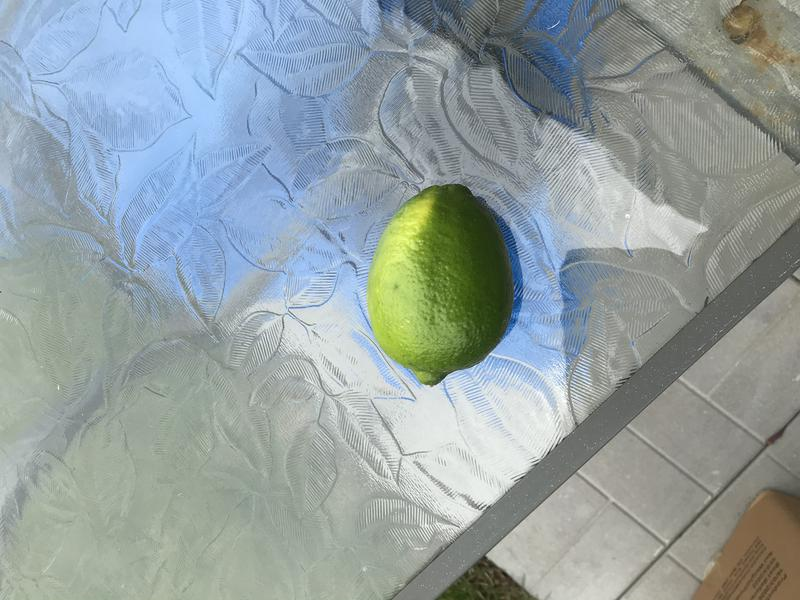lime: (354, 169, 530, 390)
